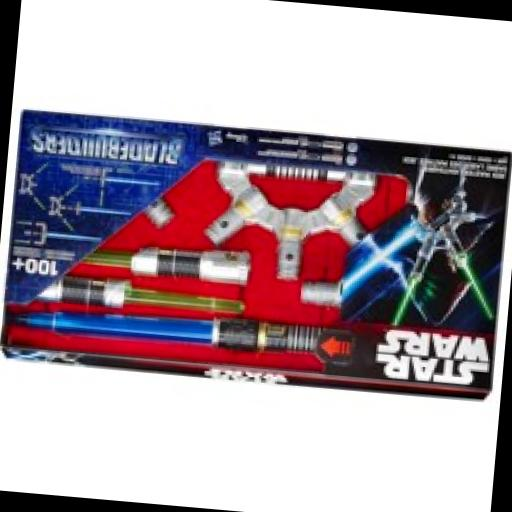lightsaber: (4, 303, 340, 359), (28, 274, 254, 321), (65, 238, 252, 284)
